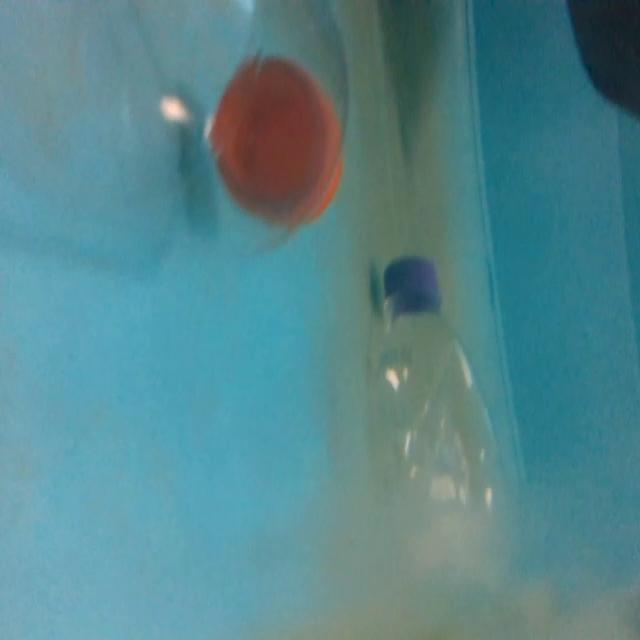plastic bottle: (366, 236, 501, 542)
